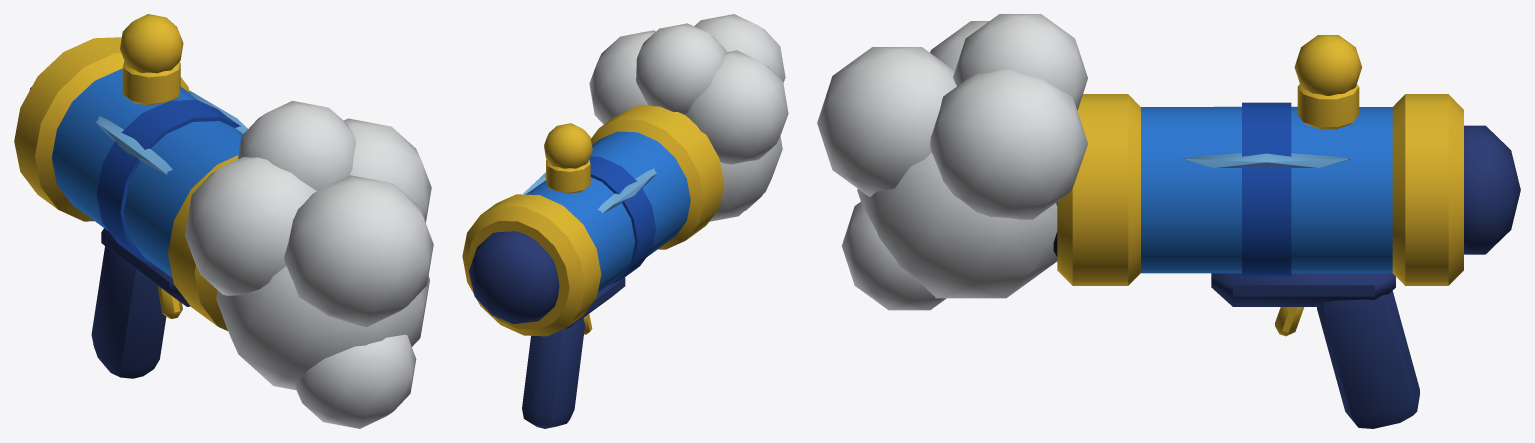
Rendered from w_a_cloud.glb.
The picture shows the model from 3 angles, left to right: view 1: azimuth 30°, elevation 25°; view 2: azimuth 150°, elevation 25°; view 3: azimuth 270°, elevation 25°; orthographic projection. The views are drawn at different scales.
Parts seen in each view (by area): view 1: body; view 2: body; view 3: body.
Part boxes in pixels (<box>): body: <box>14,14,433,428</box>; body: <box>462,14,788,428</box>; body: <box>817,14,1520,428</box>.
Size of the model in its own units: 0.4025 by 0.6583 by 1.03.
